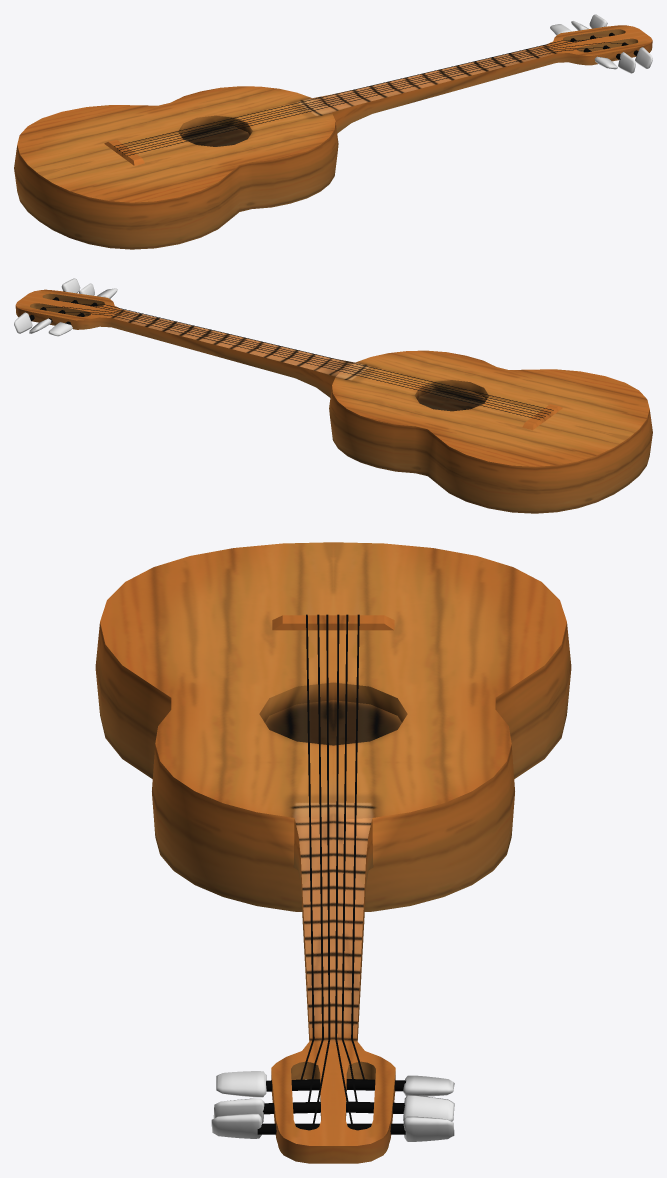
The model's file is Gitarre.FBX.
3 renders of one model, top to bottom at view 1: azimuth 30°, elevation 25°; view 2: azimuth 150°, elevation 25°; view 3: azimuth 270°, elevation 25°, orthographic. The views are drawn at different scales.
Visible parts, largest first — view 1: Gitarre, BLACK_Wirbel_u_Seiten, WHITE_Drehknoepfe; view 2: Gitarre, BLACK_Wirbel_u_Seiten, WHITE_Drehknoepfe; view 3: Gitarre, BLACK_Wirbel_u_Seiten, WHITE_Drehknoepfe.
Part boxes in pixels (x1,y1,x2,y2): Gitarre: [14, 25, 652, 249]; BLACK_Wirbel_u_Seiten: [114, 26, 638, 155]; WHITE_Drehknoepfe: [550, 14, 652, 73]; Gitarre: [15, 289, 652, 513]; BLACK_Wirbel_u_Seiten: [29, 291, 553, 419]; WHITE_Drehknoepfe: [14, 278, 117, 336]; Gitarre: [95, 542, 571, 1163]; BLACK_Wirbel_u_Seiten: [257, 614, 405, 1134]; WHITE_Drehknoepfe: [211, 1071, 454, 1141].
Size of the model in its own units: 151 by 51.19 by 11.98.
